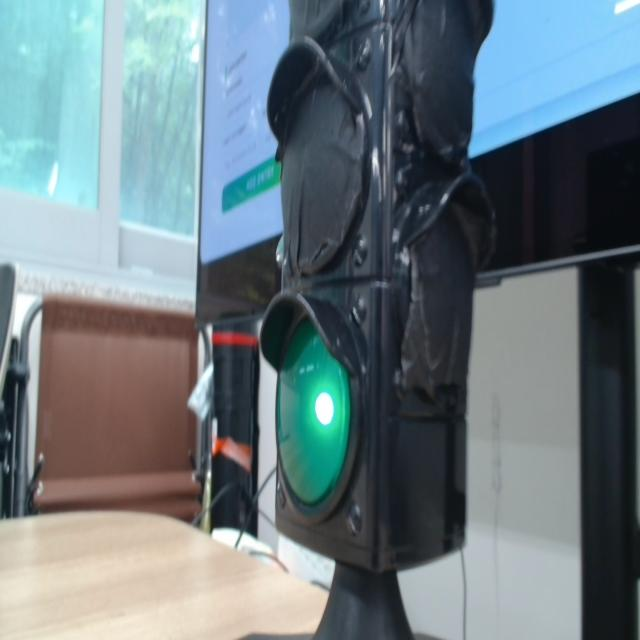green_light: (277, 320, 350, 505), (315, 393, 334, 426)
